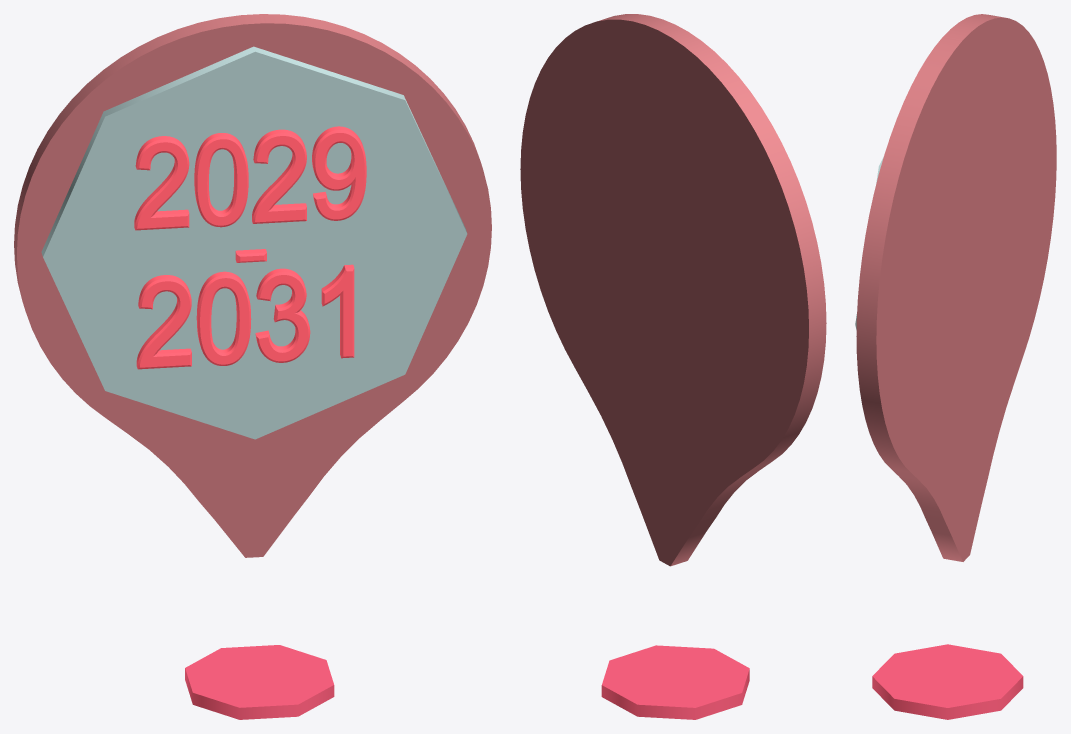
File: orbit-date-bubble-transformed.glb
3 views of the same model, side by side, from view 1: azimuth 30°, elevation 25°; view 2: azimuth 150°, elevation 25°; view 3: azimuth 270°, elevation 25° (orthographic). The views are drawn at different scales.
Visible parts, largest first — view 1: TextPlus007, bottomOctagon; view 2: TextPlus007, bottomOctagon; view 3: TextPlus007, bottomOctagon.
Part boxes in pixels (x1,y1,x2,y2): TextPlus007: (14, 14, 491, 557); bottomOctagon: (185, 645, 334, 719); TextPlus007: (520, 14, 826, 566); bottomOctagon: (601, 645, 749, 719); TextPlus007: (855, 14, 1056, 561); bottomOctagon: (872, 644, 1023, 719).
Size of the model in its own units: 10.22 by 16.67 by 4.67.
